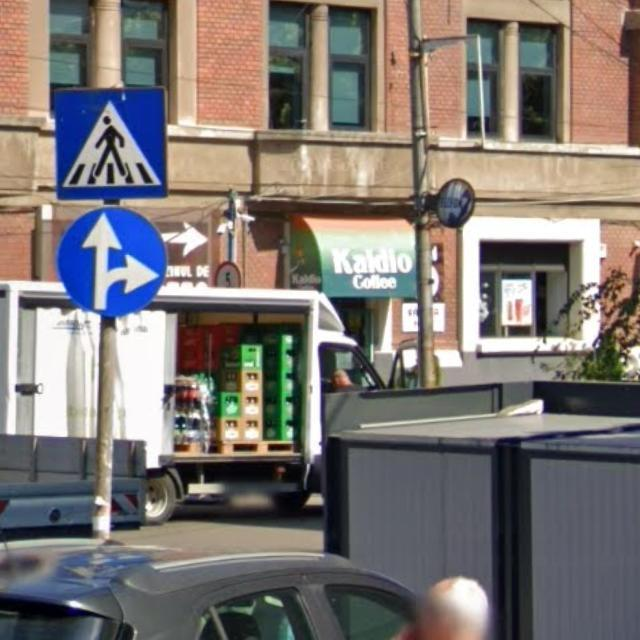info_crosswalk: (48, 88, 171, 201)
